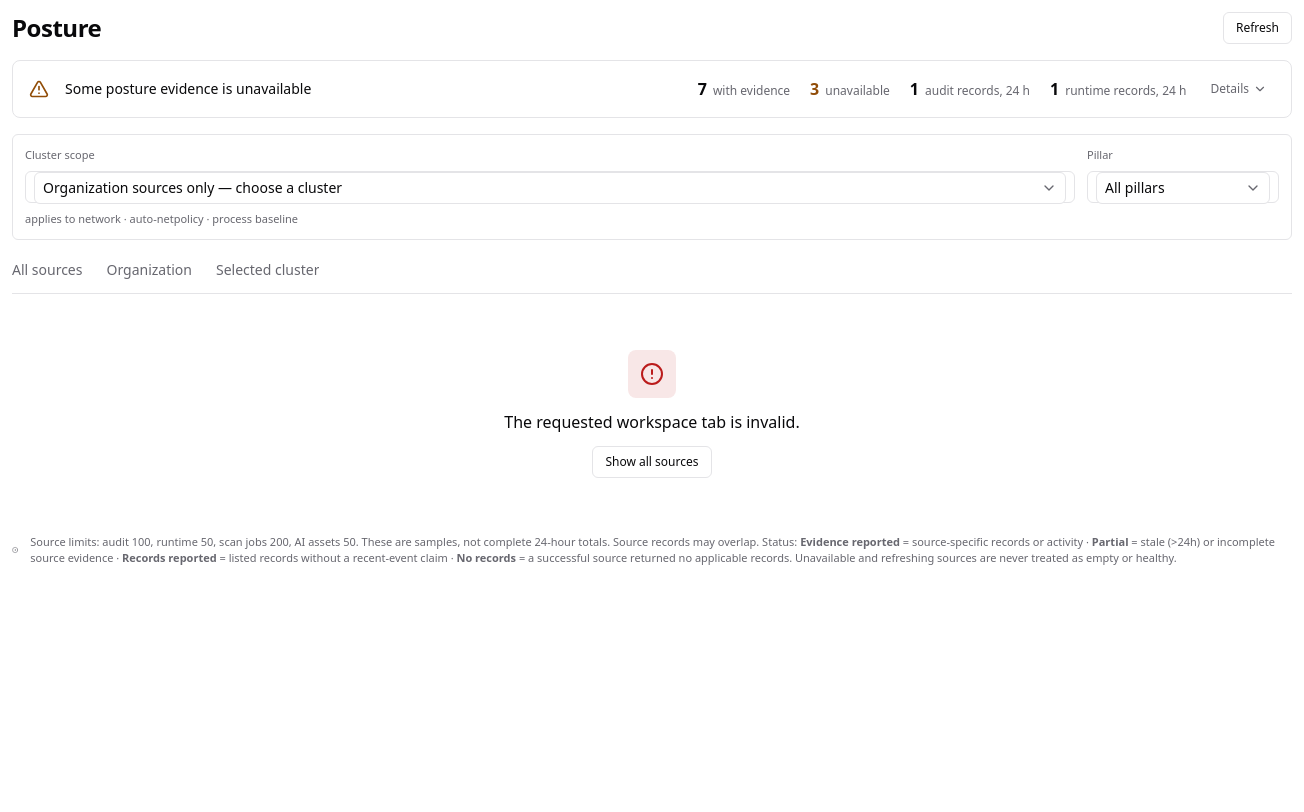
keeps unknown workspace tabs explicit with a recovery action
Step 1. Click the button "Show all sources" → (652, 462), box [592,446,712,478]
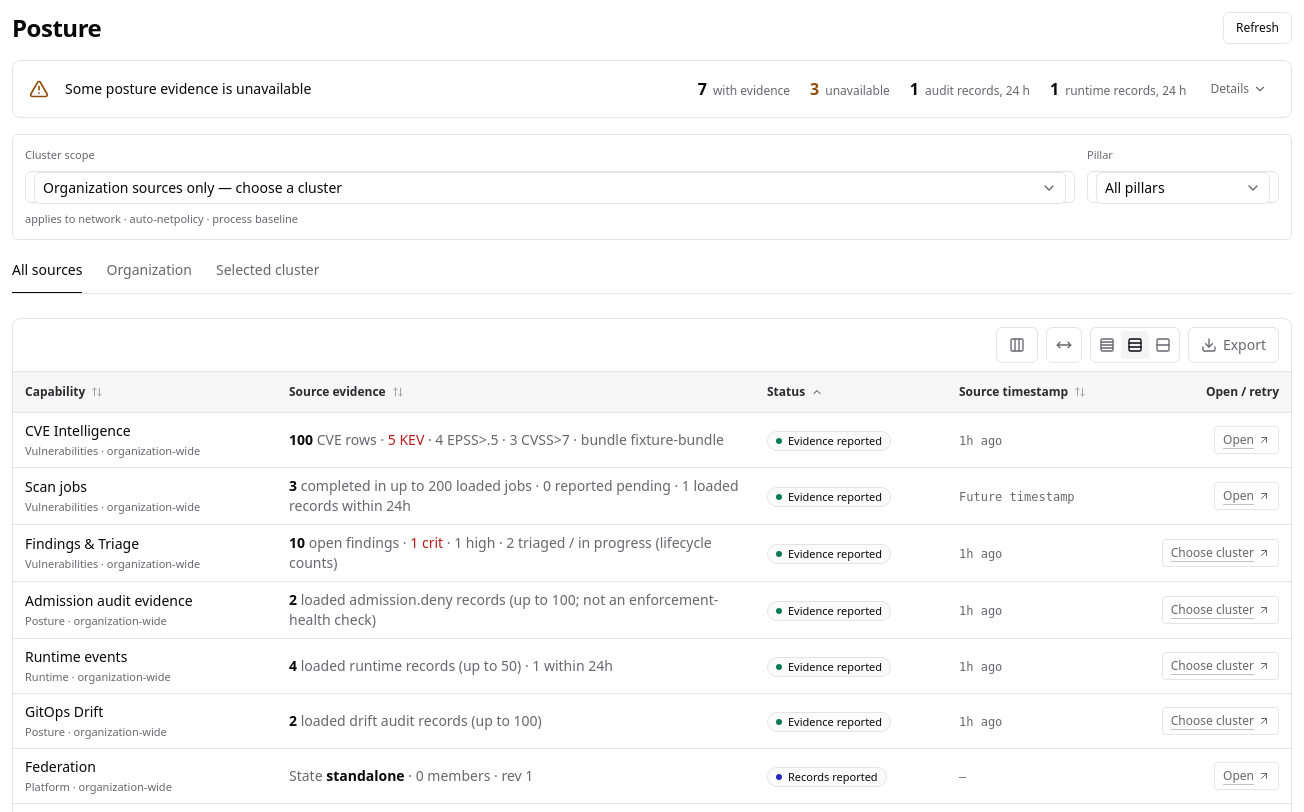
Expected: the row with test id "coverage-row" shows "fixture-bundle", [630,430,724,448]
